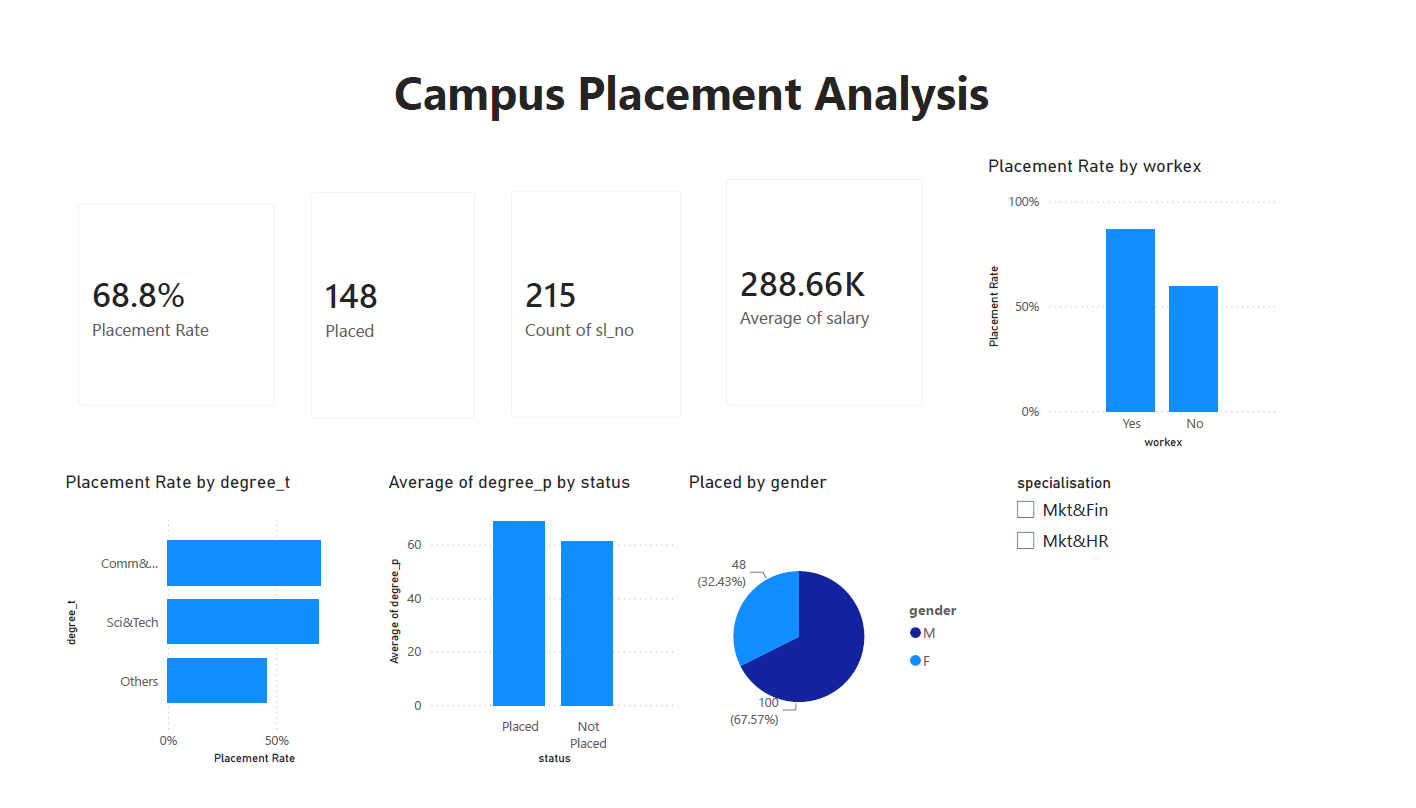

Layout of this report page (visuals, bound fields, positions):
{"tool":"powerbi","page":{"name":"Page 1","canvas":[1280,720],"ordinal":0},"visuals":[{"type":"cardVisual","fields":{"Data":["placement_data.Placement Rate"]},"box":[34.2,155.9,217.5,223],"z":0},{"type":"cardVisual","fields":{"Data":["placement_data.Placed"]},"box":[251.7,145,187.4,246.2],"z":1},{"type":"cardVisual","fields":{"Data":["CountNonNull(placement_data.sl_no)"]},"box":[439.1,143.6,192.9,246.2],"z":2},{"type":"cardVisual","fields":{"Data":["Avg(placement_data.salary)"]},"box":[640.1,132.7,217.5,246.2],"z":3},{"type":"clusteredColumnChart","fields":{"Category":["placement_data.workex"],"Y":["placement_data.Placement Rate"]},"box":[897.3,127.2,280,280],"z":4},{"type":"clusteredBarChart","fields":{"Category":["placement_data.degree_t"],"Y":["placement_data.Placement Rate"]},"box":[25,440,280,280],"z":5},{"type":"clusteredColumnChart","fields":{"Category":["placement_data.status"],"Y":["Avg(placement_data.degree_p)"]},"box":[336.5,422.7,280,280],"z":6},{"type":"pieChart","fields":{"Category":["placement_data.gender"],"Y":["placement_data.Placed"]},"box":[616.9,422.7,280,280],"z":7},{"type":"slicer","fields":{"Values":["placement_data.specialisation"]},"box":[916.4,421.3,299.6,280.4],"z":8},{"type":"textbox","box":[283.1,0,707.2,112.2],"z":9}]}

Visuals, with their boxes in screenshot pixels (x1, y1, x2, y2), scaled from the page's 1280x720 canvas onto the 1416x808 screenshot:
cardVisual - placement_data.Placement Rate: locate(38, 175, 278, 425)
cardVisual - placement_data.Placed: locate(278, 163, 486, 439)
cardVisual - CountNonNull(placement_data.sl_no): locate(486, 161, 699, 437)
cardVisual - Avg(placement_data.salary): locate(708, 149, 949, 425)
clusteredColumnChart - placement_data.workex x placement_data.Placement Rate: locate(993, 143, 1302, 457)
clusteredBarChart - placement_data.degree_t x placement_data.Placement Rate: locate(28, 494, 337, 807)
clusteredColumnChart - placement_data.status x Avg(placement_data.degree_p): locate(372, 474, 682, 789)
pieChart - placement_data.gender x placement_data.Placed: locate(682, 474, 992, 789)
slicer - placement_data.specialisation: locate(1014, 473, 1345, 787)
textbox: locate(313, 0, 1096, 126)
